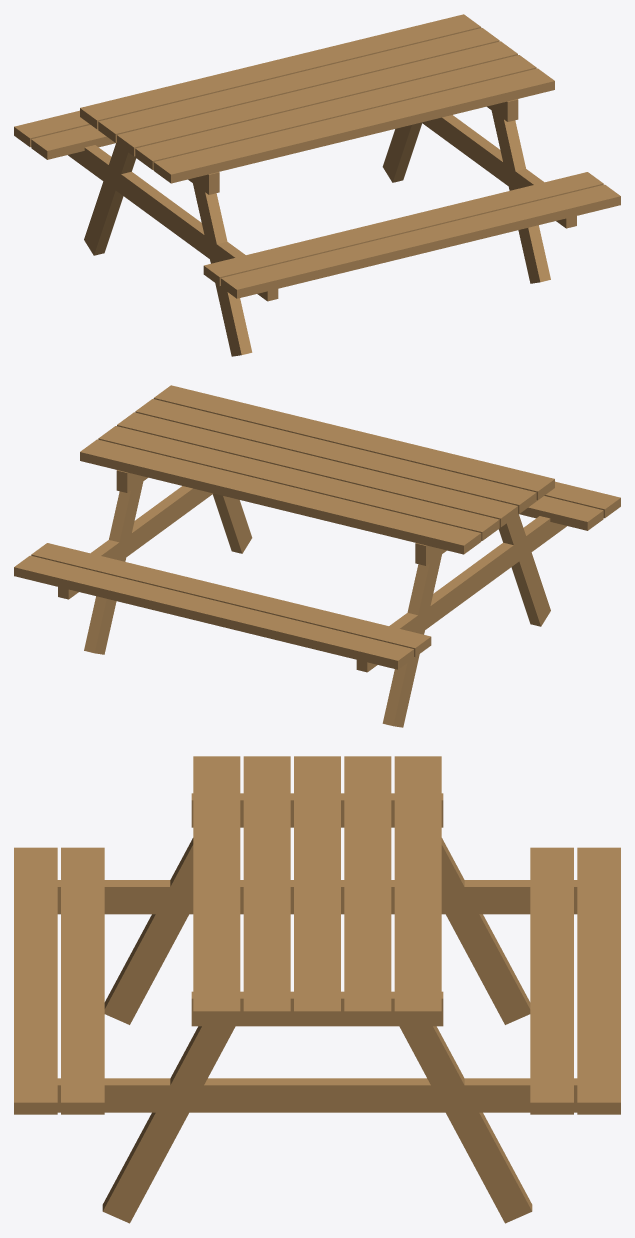
File: hospitality.pub.picnic_bench.glb
The picture shows the model from 3 angles, top to bottom: view 1: azimuth 30°, elevation 25°; view 2: azimuth 150°, elevation 25°; view 3: azimuth 270°, elevation 25°; orthographic projection. The views are drawn at different scales.
Parts seen in each view (by area): view 1: main__softwood; view 2: main__softwood; view 3: main__softwood.
Boxes of the visible parts, x1=… form: main__softwood: x1=14, y1=14, x2=620, y2=356; main__softwood: x1=14, y1=385, x2=620, y2=727; main__softwood: x1=14, y1=756, x2=620, y2=1223.
Size of the model in its own units: 1.8 by 0.7797 by 1.81.
